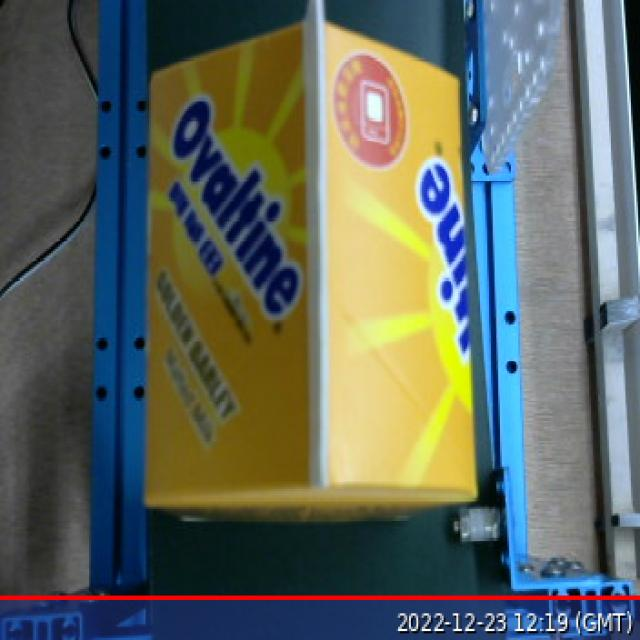non_white_jug: (127, 3, 484, 530)
